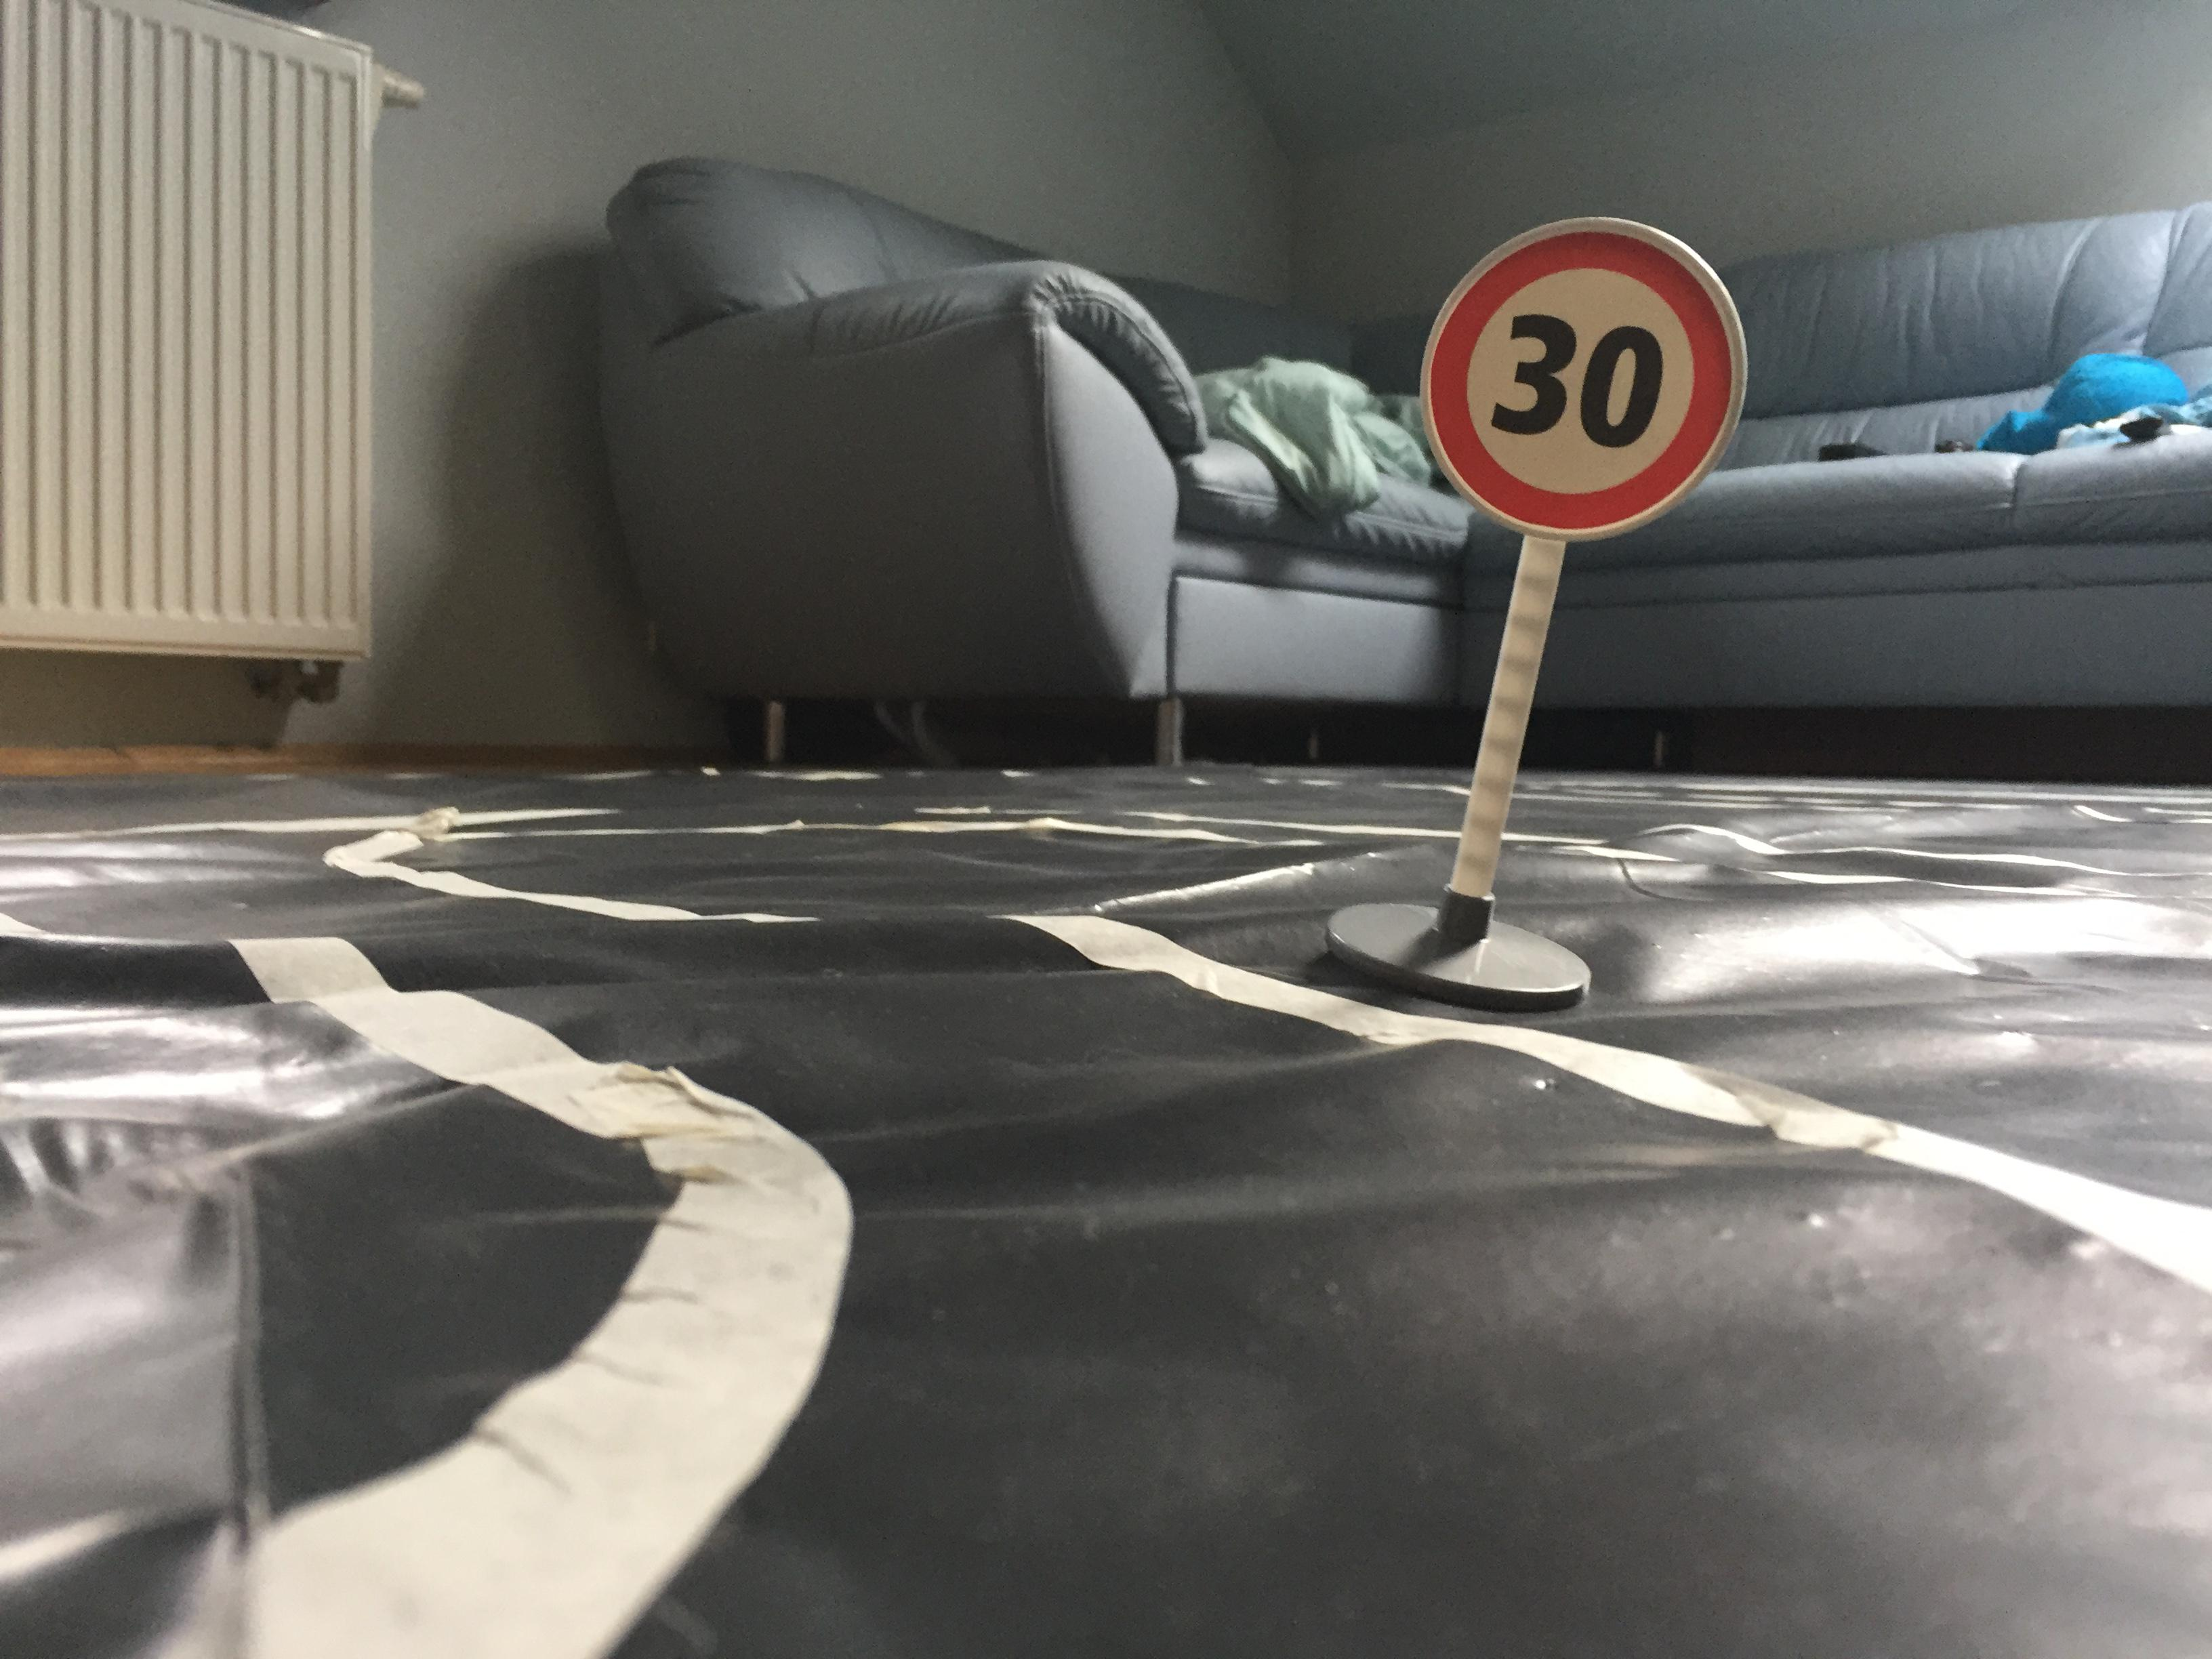speed: (1409, 204, 1763, 558)
